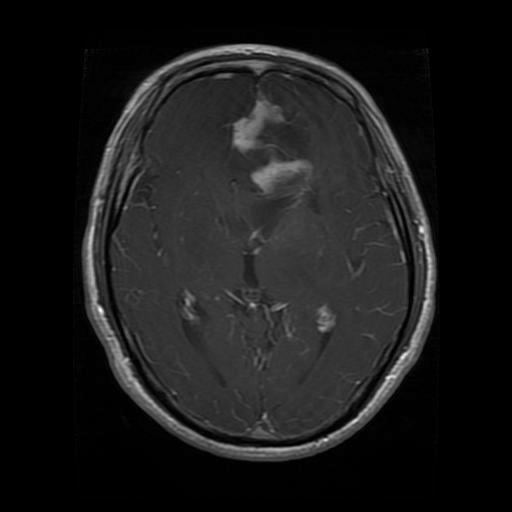Tumour-Glioma: (242, 112, 321, 229)
